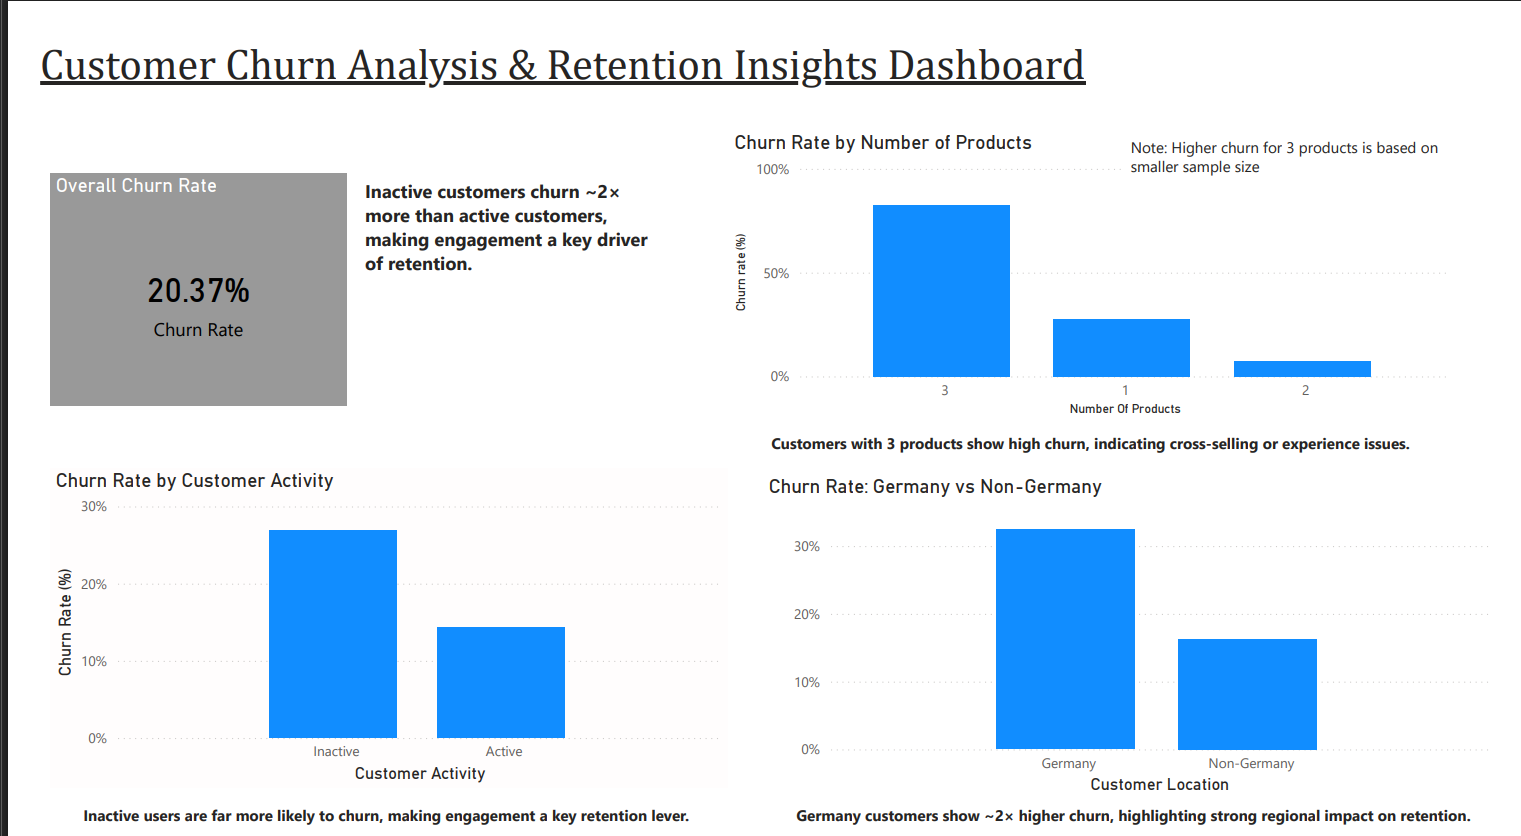

The dashboard page shown, as its layout file describes it:
{"tool":"powerbi","page":{"name":"Page 1","canvas":[1280,720],"ordinal":0},"visuals":[{"type":"card","title":"Overall Churn Rate","fields":{"Values":["Avg(cleaned_enhanced_customer_data.Exited)"]},"box":[13.7,127.6,260.7,204.5],"z":0},{"type":"clusteredColumnChart","title":"Churn Rate by Customer Activity","fields":{"Category":["cleaned_enhanced_customer_data.ActivityLabel"],"Y":["Avg(cleaned_enhanced_customer_data.Exited)"]},"box":[13.7,387,594.2,279.9],"z":1000},{"type":"textbox","box":[0,5.5,1280.3,85.1],"z":2000},{"type":"textbox","box":[285.4,127.6,274.4,109.8],"z":3000},{"type":"clusteredColumnChart","title":"Churn Rate by Number of Products","fields":{"Category":["cleaned_enhanced_customer_data.NumOfProducts"],"Y":["Avg(cleaned_enhanced_customer_data.Exited)"]},"box":[609.3,90.6,636.7,255.2],"z":4000},{"type":"clusteredColumnChart","title":"Churn Rate: Germany vs Non-Germany","fields":{"Category":["cleaned_enhanced_customer_data.GeographyLabel"],"Y":["Avg(cleaned_enhanced_customer_data.Exited)"]},"box":[639.5,392.5,640.8,284],"z":5000},{"type":"textbox","box":[956.4,90.6,289.5,54.9],"z":6000},{"type":"textbox","box":[38.4,676.5,546.1,43.9],"z":7000},{"type":"textbox","box":[662.8,676.5,617.5,43.9],"z":8000},{"type":"textbox","box":[640.8,351.3,573.6,35.7],"z":9000}]}

Visuals, with their boxes in screenshot pixels (x1, y1, x2, y2), scaled from the page's 1280x720 canvas onto the 1521x836 screenshot:
"Overall Churn Rate" card: [16, 148, 326, 386]
"Churn Rate by Customer Activity" clusteredColumnChart: [16, 449, 722, 774]
textbox: [0, 6, 1520, 105]
textbox: [339, 148, 665, 276]
"Churn Rate by Number of Products" clusteredColumnChart: [724, 105, 1481, 402]
"Churn Rate: Germany vs Non-Germany" clusteredColumnChart: [760, 456, 1520, 785]
textbox: [1136, 105, 1480, 169]
textbox: [46, 785, 695, 835]
textbox: [788, 785, 1520, 835]
textbox: [761, 408, 1443, 449]
